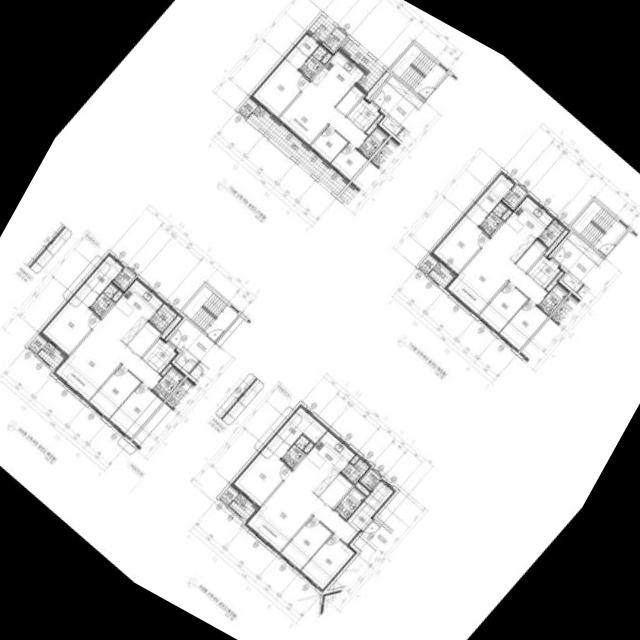background: (0, 0, 640, 640)
space_balconi: (248, 105, 346, 195), (340, 37, 386, 92), (149, 303, 177, 332), (308, 14, 336, 42), (37, 342, 64, 369), (341, 458, 369, 484), (229, 493, 255, 520), (538, 220, 564, 247), (428, 262, 453, 288)
space_bedroom: (40, 294, 100, 355), (250, 58, 309, 119), (232, 446, 291, 506), (433, 215, 489, 273), (301, 534, 355, 590), (109, 382, 163, 438), (280, 516, 332, 570), (89, 365, 140, 418), (499, 299, 548, 350), (479, 282, 528, 332), (309, 125, 347, 164), (329, 143, 367, 182), (303, 442, 313, 453)
space_dressroom: (265, 406, 327, 458), (73, 254, 122, 307), (465, 174, 513, 226), (284, 31, 320, 69)
space_elevator_hall: (168, 318, 219, 365), (371, 82, 418, 127), (551, 239, 598, 283), (359, 519, 391, 551)
space_front: (346, 97, 381, 132), (146, 341, 176, 374), (346, 501, 375, 532), (532, 258, 560, 289)
space_kitchen: (488, 196, 553, 263), (99, 279, 163, 345), (291, 431, 355, 496), (308, 49, 365, 107)
space_living_room: (246, 473, 359, 552), (55, 321, 162, 400), (447, 241, 547, 314), (277, 84, 367, 148)
space_other: (386, 75, 424, 109), (567, 232, 603, 265), (319, 473, 352, 508), (127, 322, 160, 356), (335, 83, 366, 116), (516, 239, 546, 272), (364, 481, 394, 512), (216, 316, 243, 347), (365, 71, 390, 100), (544, 229, 568, 256), (160, 313, 183, 340), (175, 347, 198, 373), (142, 337, 165, 362), (503, 185, 526, 207), (324, 28, 346, 51), (527, 255, 548, 278), (114, 267, 135, 289), (382, 115, 402, 135), (562, 272, 582, 292), (361, 469, 380, 489), (365, 114, 383, 135), (546, 271, 563, 291), (355, 482, 370, 496), (160, 363, 172, 375), (321, 53, 331, 64), (501, 209, 511, 220), (112, 290, 122, 301), (350, 455, 359, 464)
space_outdoor_room: (238, 97, 257, 117), (219, 485, 238, 504), (418, 254, 437, 273), (28, 334, 46, 353)
space_staircase: (182, 285, 238, 342), (571, 200, 627, 256), (390, 44, 447, 99)
space_toilet: (334, 486, 366, 520), (152, 367, 184, 400), (89, 283, 118, 317), (538, 283, 568, 315), (299, 45, 327, 79), (358, 127, 388, 158), (281, 435, 309, 468), (479, 202, 507, 235)
